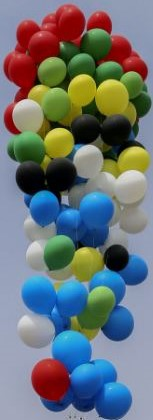Balloon: (32, 360, 70, 401), (22, 276, 58, 314), (52, 330, 91, 365), (96, 382, 131, 419), (18, 314, 54, 348), (95, 79, 128, 115), (80, 193, 114, 226), (56, 281, 88, 315), (103, 305, 134, 340), (30, 190, 59, 227), (115, 170, 147, 203), (12, 99, 44, 131), (40, 87, 70, 121), (73, 145, 103, 179), (44, 235, 74, 269), (71, 364, 101, 398), (16, 161, 46, 194), (100, 115, 131, 146), (44, 127, 74, 159), (73, 246, 102, 278), (48, 158, 76, 190), (38, 57, 67, 87), (14, 133, 44, 162), (70, 114, 99, 144), (69, 74, 96, 106), (81, 28, 111, 56), (88, 286, 116, 315), (58, 8, 84, 39), (28, 32, 59, 58), (118, 146, 149, 172), (123, 256, 149, 285), (10, 55, 35, 85), (121, 207, 148, 234), (104, 245, 129, 270), (68, 52, 94, 76)
